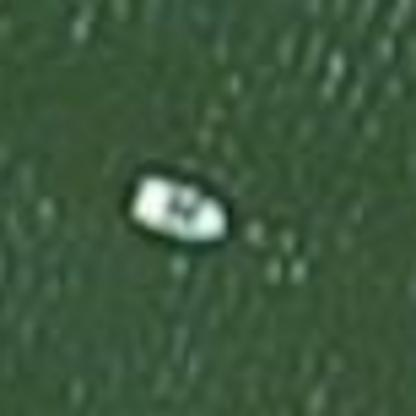ship: (110, 149, 240, 254)
